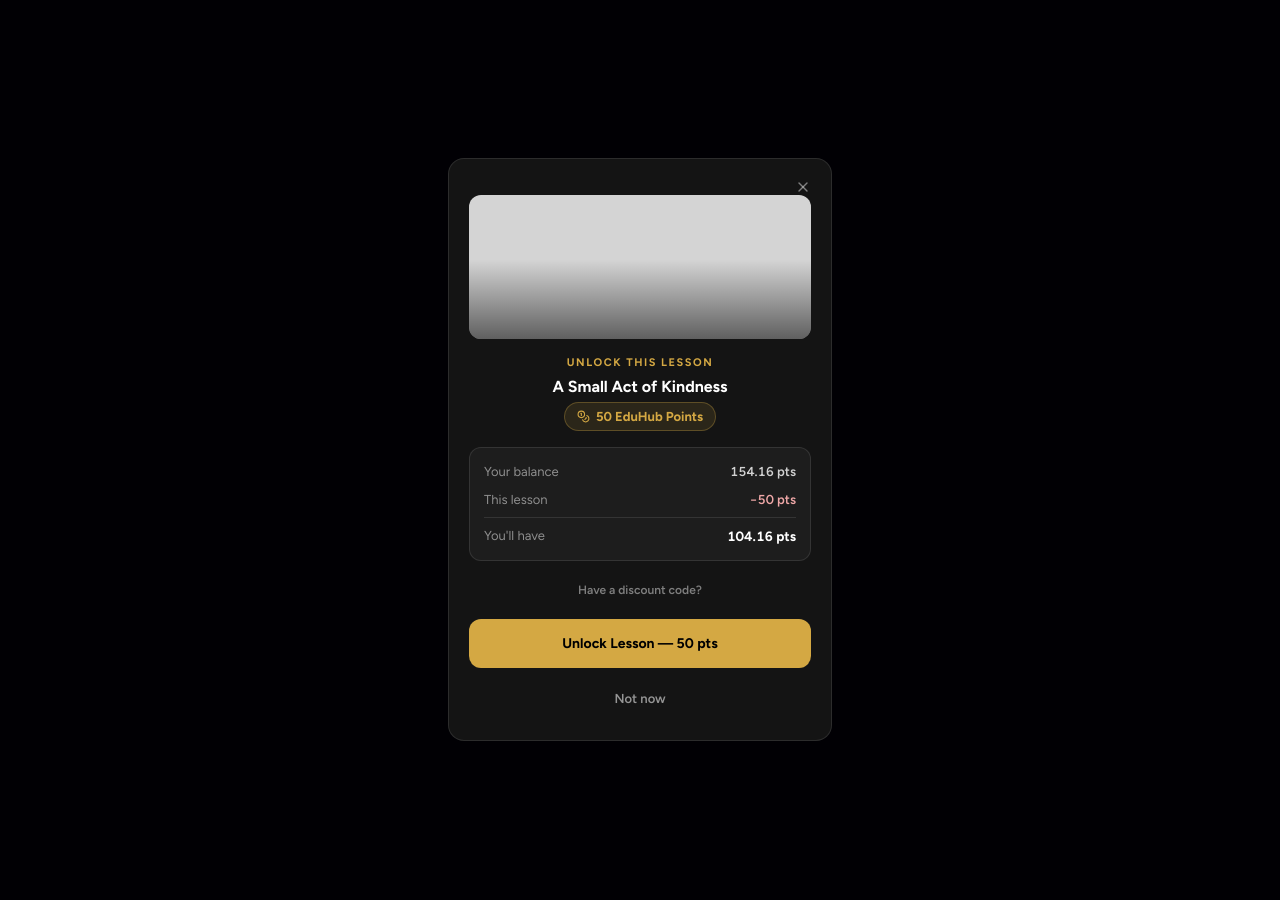
it: a genuine backend rejection where the fresh balance IS sufficient still shows the generic honest failure — never misattributed to insufficient funds
Step 1. Click the button with test id "video-purchase-confirm-button" → (640, 644), box [469,620,811,669]
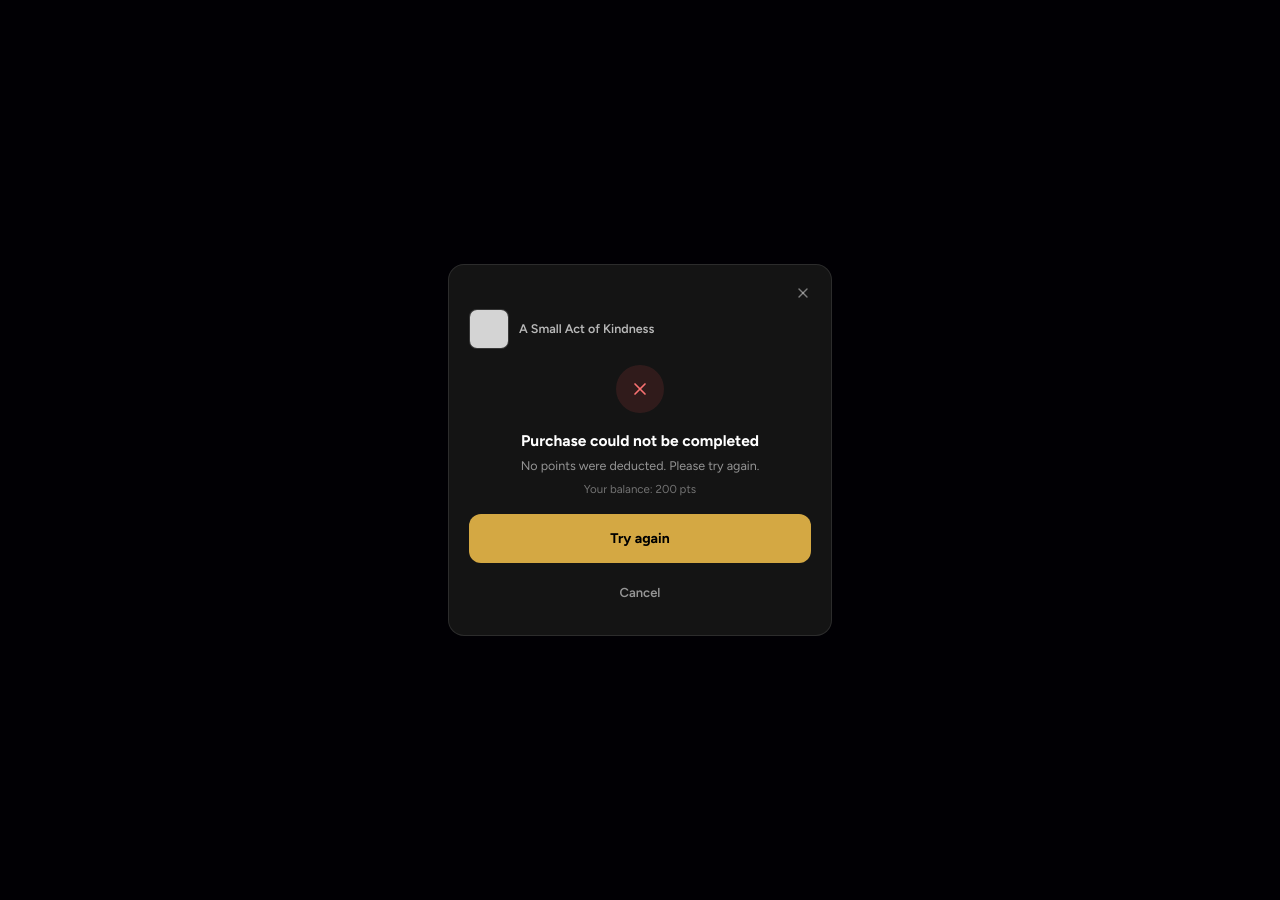
Result: the element with test id "video-purchase-error" is shown at [469,301,811,615]
Result: the heading "Purchase could not be completed" is shown at [521,431,759,450]
